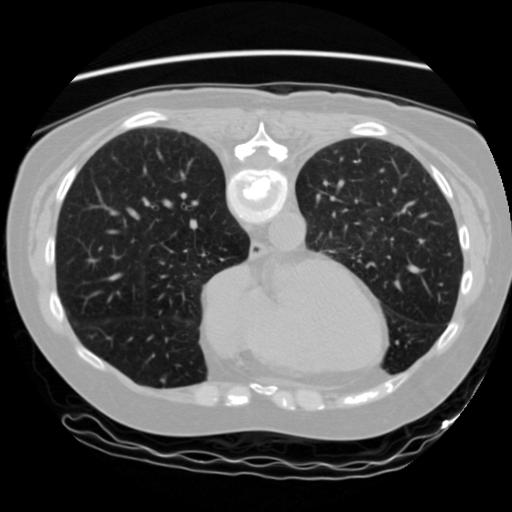nodule: (157, 376, 168, 387)
